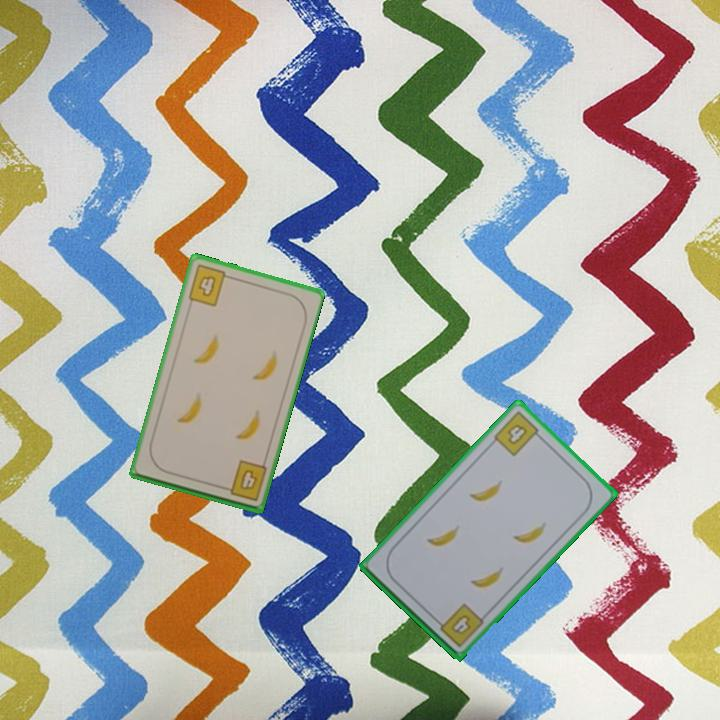4b: (490, 407, 546, 459), (432, 600, 487, 650), (184, 261, 235, 309), (218, 457, 270, 504)
